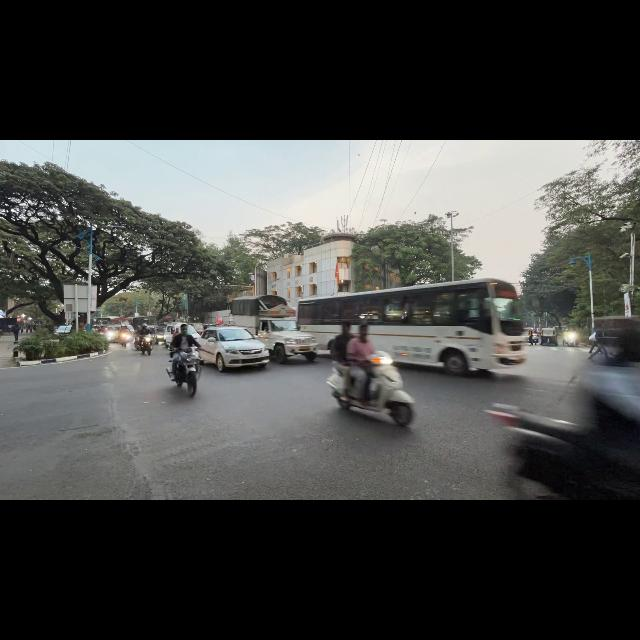bus: (298, 279, 523, 373), (130, 316, 157, 329), (91, 317, 119, 325)
car: (199, 327, 269, 371), (164, 323, 186, 347), (148, 325, 164, 343), (105, 325, 121, 342), (54, 325, 72, 339), (192, 323, 204, 335)
motorcycle: (487, 404, 639, 499), (327, 351, 414, 426), (167, 347, 201, 396), (140, 335, 154, 355), (563, 332, 577, 346), (119, 333, 132, 346)
truck: (229, 295, 317, 363)
